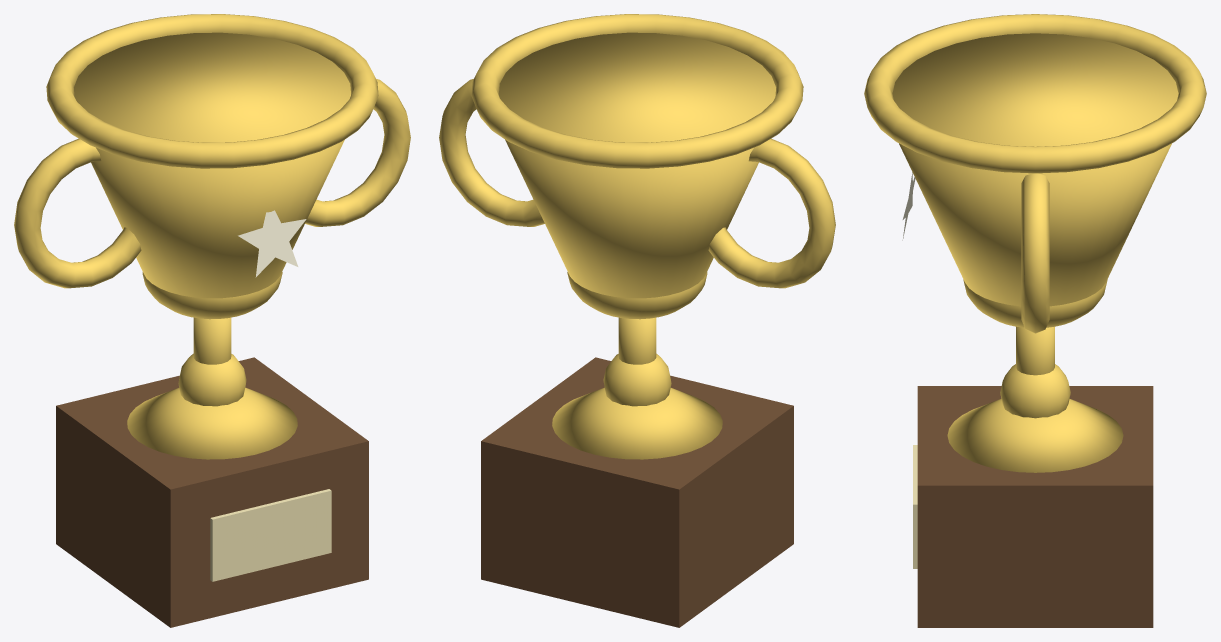
The model's file is cup_gold.glb.
The picture shows the model from 3 angles, left to right: view 1: azimuth 30°, elevation 25°; view 2: azimuth 150°, elevation 25°; view 3: azimuth 270°, elevation 25°; orthographic projection. The views are drawn at different scales.
Parts seen in each view (by area): view 1: Cube, Cone, Torus, Cone.001, Cube.001, Torus.001, Torus.002, Sphere.001, Sphere, Star, Cylinder; view 2: Cube, Cone, Torus, Cone.001, Torus.001, Torus.002, Sphere.001, Sphere, Cylinder; view 3: Cone, Cube, Torus, Cone.001, Torus.002, Sphere.001, Sphere, Cylinder, Cube.001.
Boxes of the visible parts, x1=… form: Cube: x1=56, y1=357, x2=368, y2=627; Cone: x1=74, y1=32, x2=350, y2=298; Torus: x1=46, y1=14, x2=378, y2=168; Cone.001: x1=127, y1=387, x2=297, y2=459; Cube.001: x1=210, y1=489, x2=331, y2=581; Torus.001: x1=14, y1=138, x2=141, y2=288; Torus.002: x1=305, y1=79, x2=410, y2=226; Sphere.001: x1=178, y1=353, x2=246, y2=406; Sphere: x1=142, y1=272, x2=282, y2=319; Star: x1=238, y1=210, x2=306, y2=277; Cylinder: x1=193, y1=317, x2=231, y2=364; Cube: x1=481, y1=357, x2=793, y2=627; Cone: x1=499, y1=32, x2=775, y2=298; Torus: x1=471, y1=14, x2=803, y2=168; Cone.001: x1=552, y1=387, x2=722, y2=459; Torus.001: x1=708, y1=138, x2=835, y2=288; Torus.002: x1=439, y1=79, x2=544, y2=226; Sphere.001: x1=603, y1=353, x2=671, y2=406; Sphere: x1=567, y1=272, x2=707, y2=319; Cylinder: x1=618, y1=317, x2=656, y2=364; Cone: x1=892, y1=33, x2=1178, y2=306; Cube: x1=917, y1=386, x2=1153, y2=627; Torus: x1=864, y1=14, x2=1206, y2=173; Cone.001: x1=947, y1=399, x2=1123, y2=472; Torus.002: x1=1021, y1=173, x2=1049, y2=333; Sphere.001: x1=1000, y1=364, x2=1070, y2=418; Sphere: x1=963, y1=279, x2=1107, y2=327; Cylinder: x1=1016, y1=326, x2=1054, y2=375; Cube.001: x1=913, y1=445, x2=917, y2=568.
Bounding box in the file's own units: 0.596 × 0.698 × 0.436.
